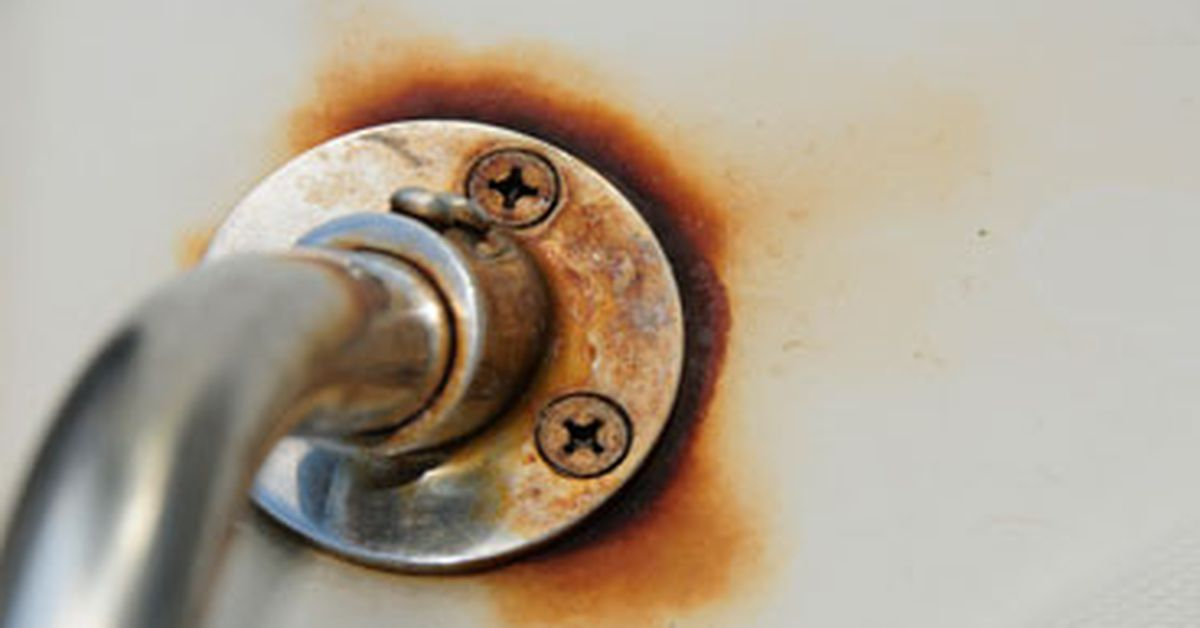rust: (539, 462, 729, 590), (391, 73, 629, 175), (641, 209, 732, 373)
